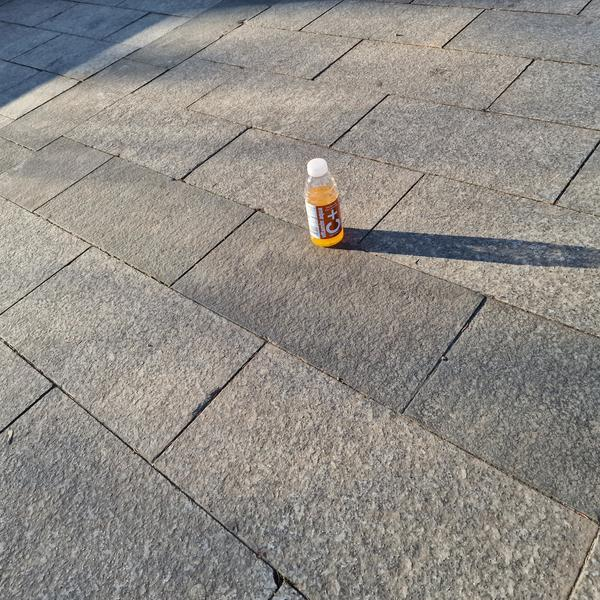plastic_bottle: (298, 154, 347, 250)
